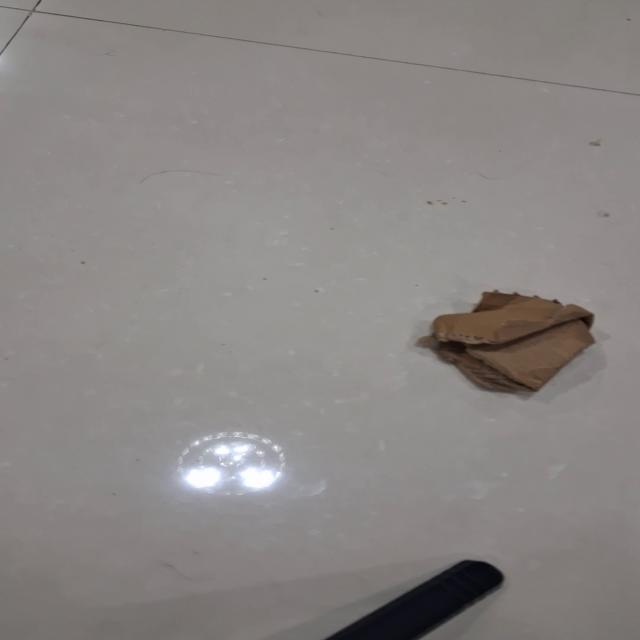paper: (420, 289, 596, 393)
